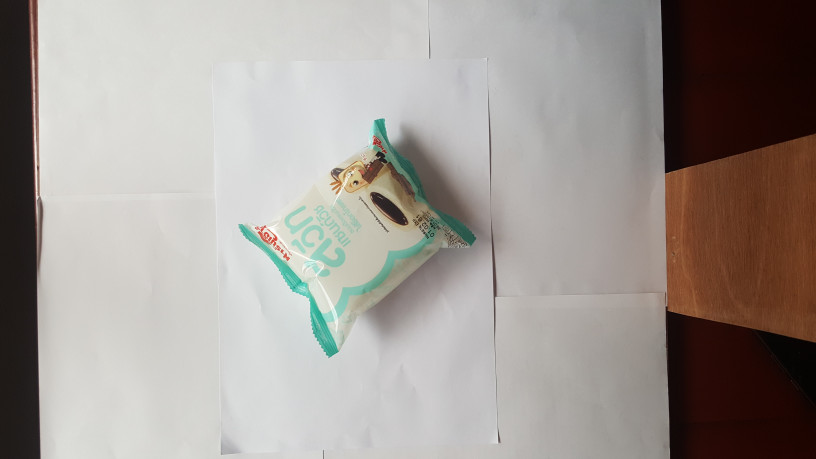farmhouse-sweetsandwich-chocolate: (235, 112, 482, 363)
